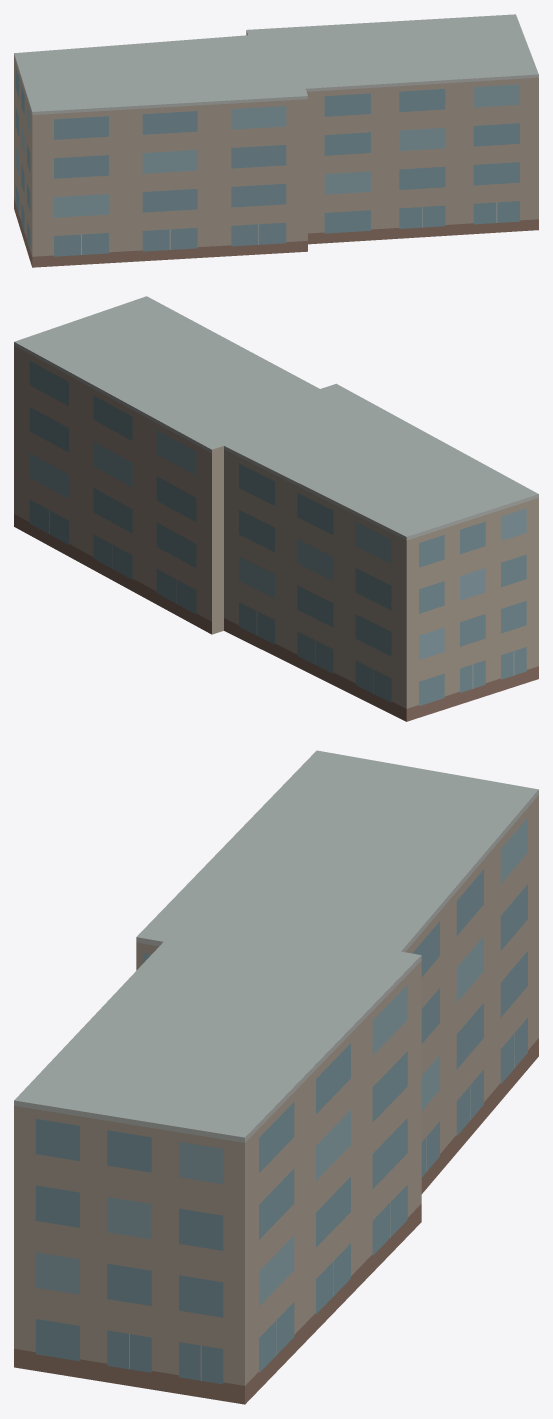
Rendered from survey-upis-32911676.glb.
3 views of the same model, one above another, from view 1: azimuth 30°, elevation 25°; view 2: azimuth 150°, elevation 25°; view 3: azimuth 270°, elevation 25° (orthographic). The views are drawn at different scales.
Visible parts, largest first — view 1: survey-upis-32911676.tmp; view 2: survey-upis-32911676.tmp; view 3: survey-upis-32911676.tmp.
Part boxes in pixels (x1,y1,x2,y2): survey-upis-32911676.tmp: (14,14,538,267); survey-upis-32911676.tmp: (14,296,538,721); survey-upis-32911676.tmp: (14,750,538,1404).
Bounding box in the file's own units: 37.97 × 12.2 × 21.75.
